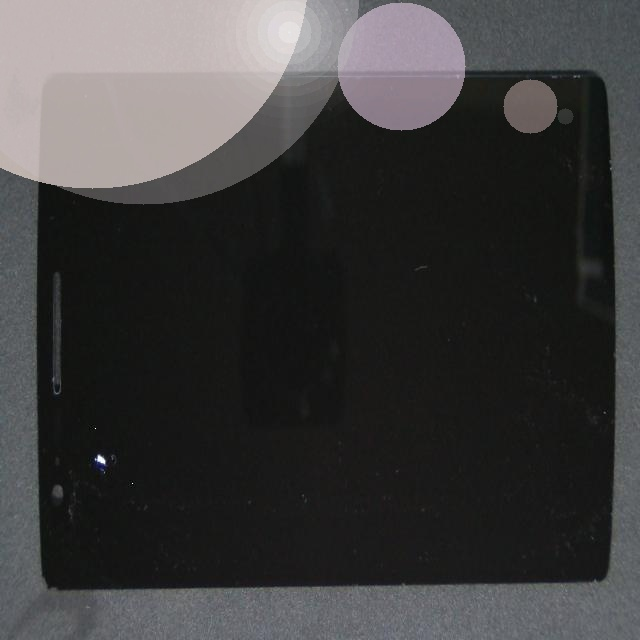stain: (44, 244, 132, 640)
